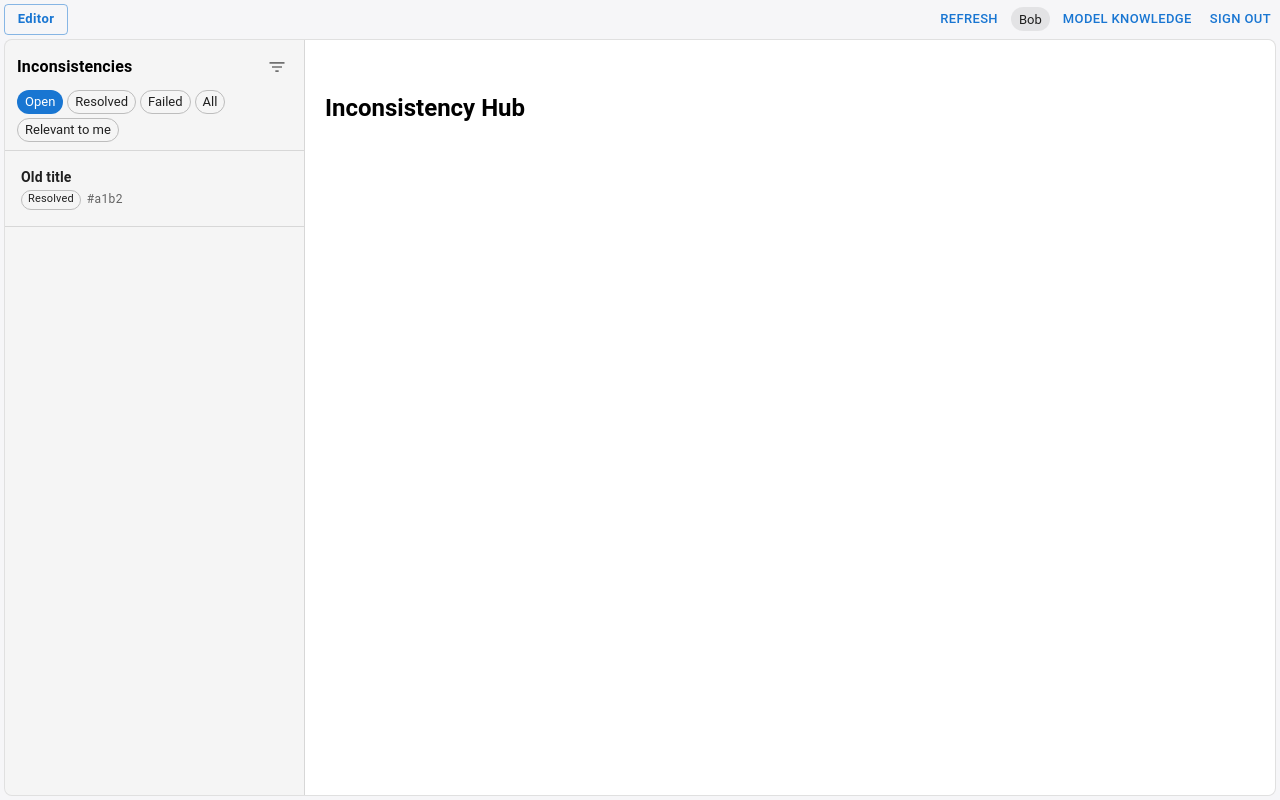
InconsistencyHubPage › keeps the selection on the reloaded copy of the selected item
The width and height of the screenshot is (1280, 800).
Click the text "Old title" at (46, 177), box [21, 169, 72, 185]
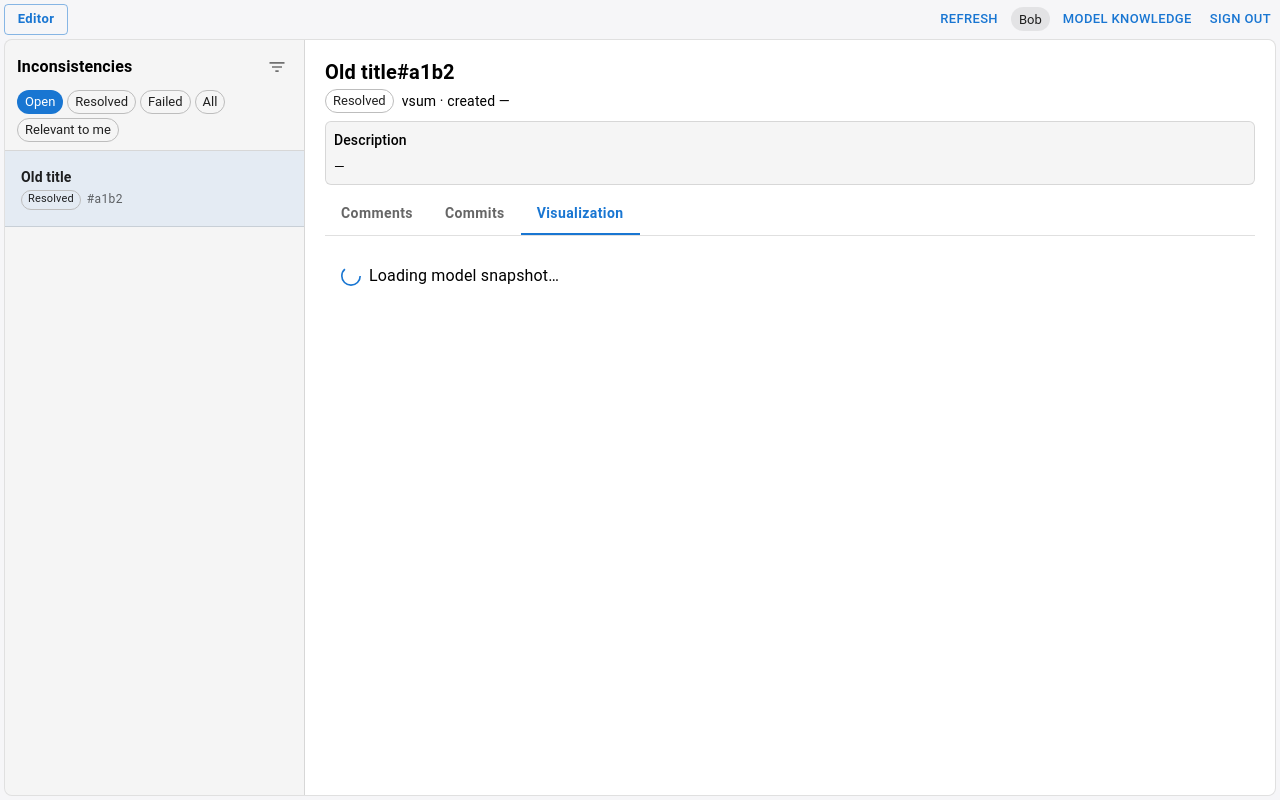
Result: the heading "Old title#a1b2" is shown at [325, 60, 455, 84]
Click the button "Refresh" at (969, 19), box [935, 4, 1003, 35]
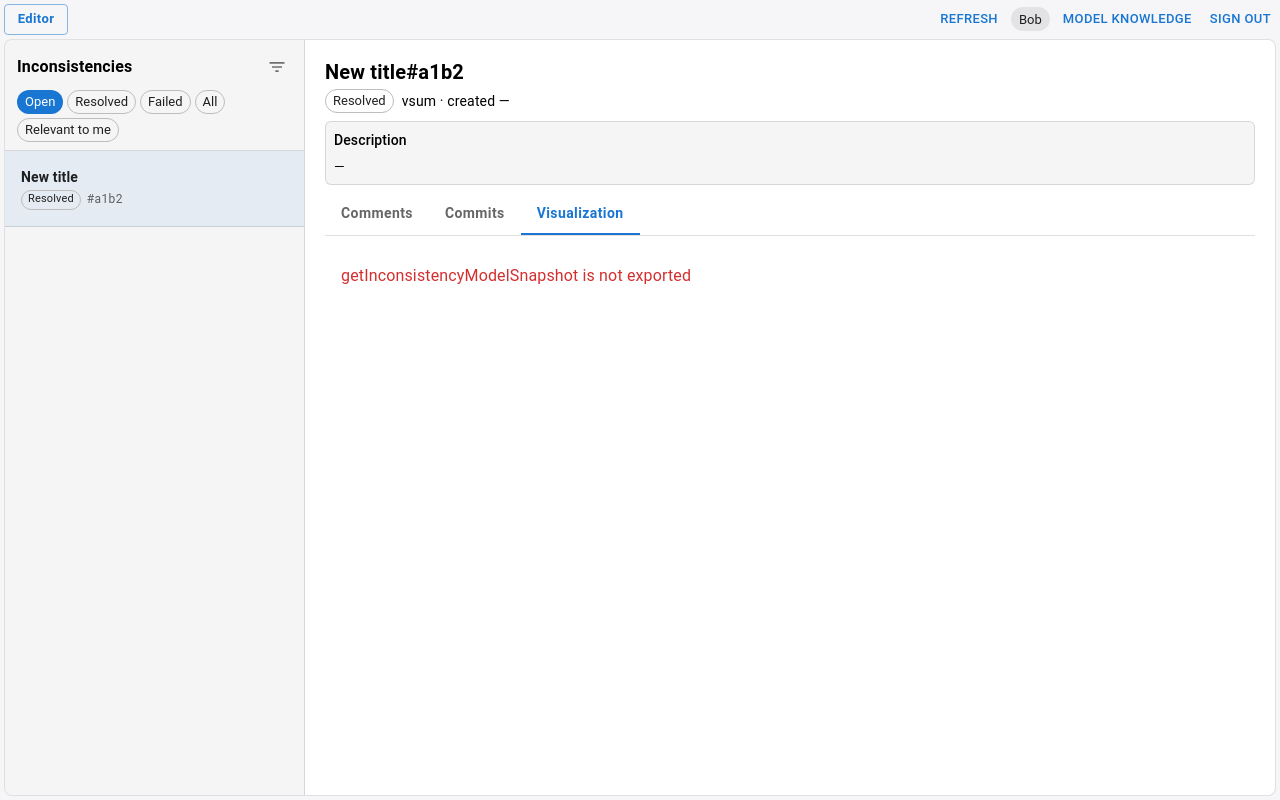
Result: the heading "New title#a1b2" is shown at [325, 60, 464, 84]
